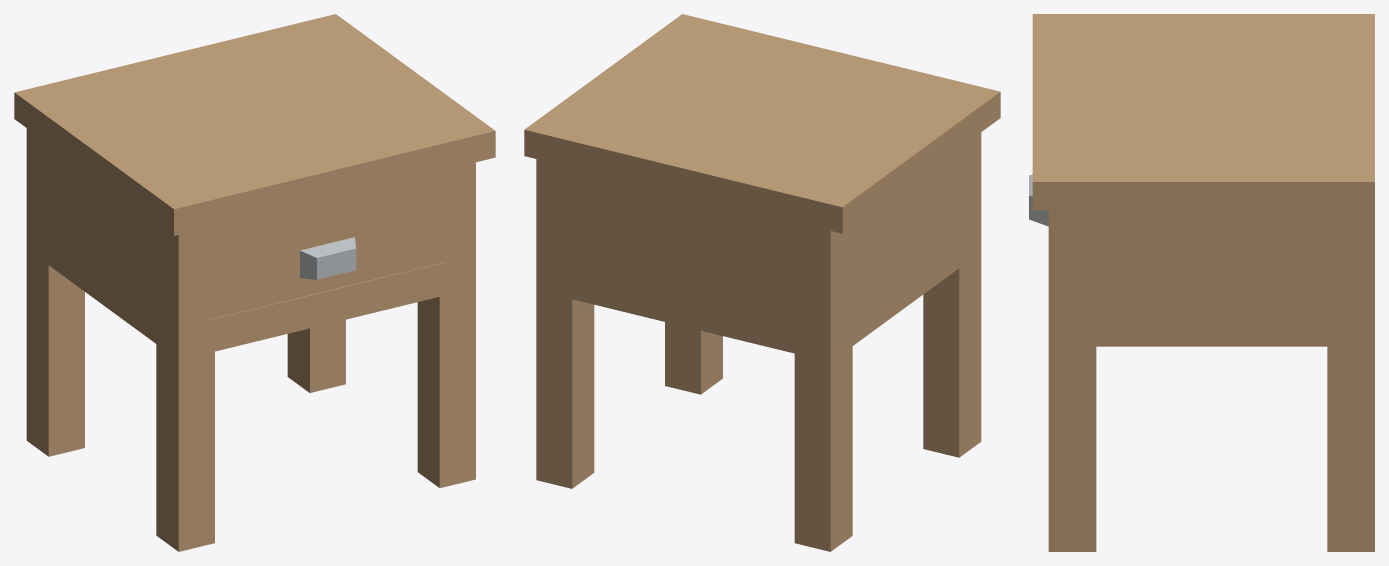
File: nightstand-table.glb
3 views of the same model, side by side, from view 1: azimuth 30°, elevation 25°; view 2: azimuth 150°, elevation 25°; view 3: azimuth 270°, elevation 25° (orthographic). The views are drawn at different scales.
Visible parts, largest first — view 1: nightstand-table; view 2: nightstand-table; view 3: nightstand-table.
Part boxes in pixels (x1,y1,x2,y2): nightstand-table: [14, 14, 495, 551]; nightstand-table: [524, 14, 1000, 551]; nightstand-table: [1029, 14, 1374, 551].
Size of the model in its own units: 0.46 by 0.48 by 0.4.
